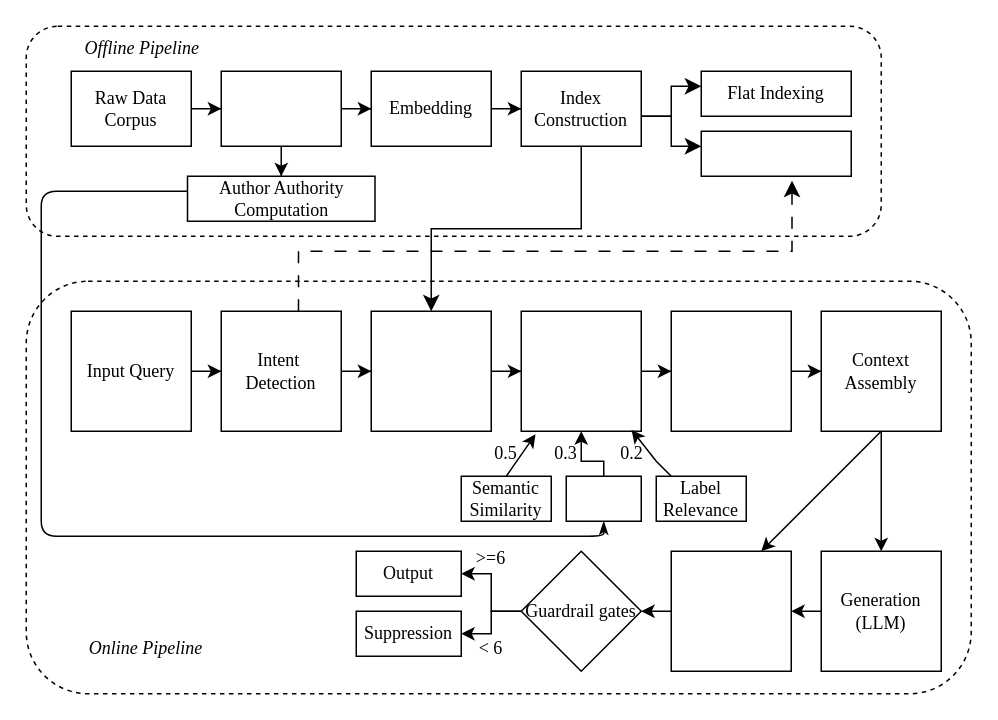
This 998x720 diagram has some shape labels left out. Here are the shapes that lost their labels. From the top down, the box of each, then its label:
(220, 70, 341, 146): Pre-processing
(700, 130, 851, 176): Partitioned Indexing
(370, 310, 491, 431): Retrieval
(520, 310, 641, 431): Scoring
(670, 310, 791, 431): Re-ranking
(565, 475, 641, 521): Author Authority
(670, 550, 791, 671): Self Evaluation
